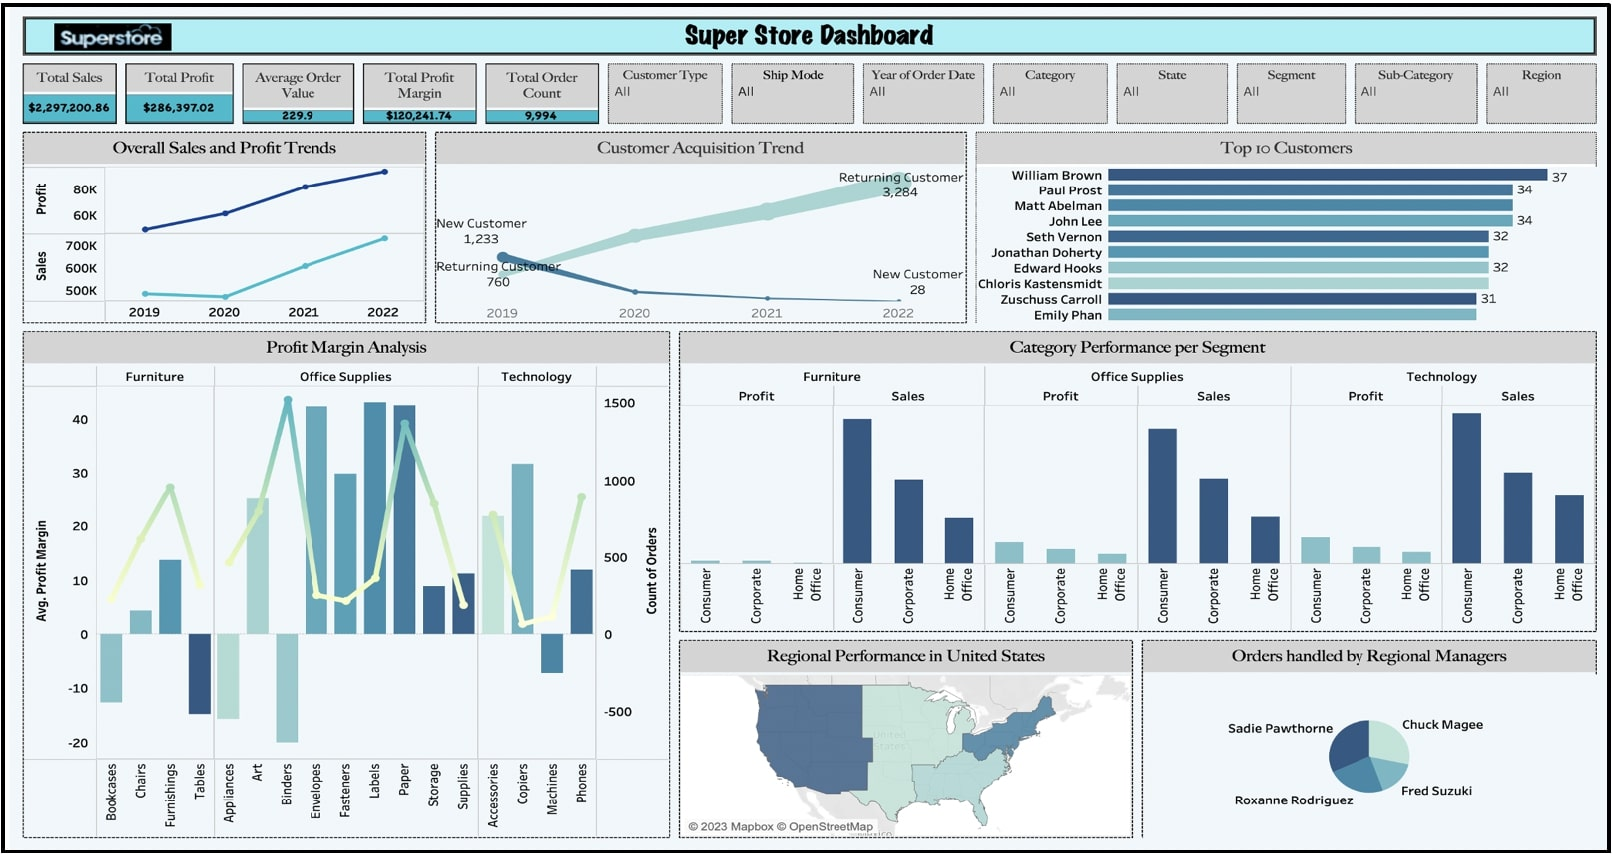

What the dashboard file says about the page in this screenshot:
{"tool":"tableau","page":{"name":"Super Store","canvas":[1466,868],"ordinal":0},"visuals":[{"type":"title","box":[8,8,1450,48]},{"type":"image","param":"Image/Screen Shot 2023-12-08 at 3.56.37 PM.png","box":[18,19,153,28]},{"type":"worksheet","title":"Total Sales","mark":"Automatic","box":[8,56,94,70]},{"type":"worksheet","title":"Total Profit","mark":"Automatic","box":[102,56,107,70]},{"type":"worksheet","title":"Average Order Value","mark":"Automatic","box":[209,56,111,70]},{"type":"worksheet","title":"Total Profit Margin","mark":"Automatic","box":[320,56,112,70]},{"type":"worksheet","title":"Total Number of Orders","mark":"Automatic","box":[432,56,112,70]},{"type":"filter","title":"Customer Acquisition Trend","param":"[Sample - Superstore].[none:Calculation_1703979171021570055:nk]","box":[544,56,113,70]},{"type":"filter","title":"Profit Margin Analysis","param":"[Sample - Superstore].[none:Ship Mode:nk]","box":[657,56,121,70]},{"type":"filter","title":"Overall Sales and Profit Trends","param":"[Sample - Superstore].[yr:Order Date:ok]","box":[778,56,119,70]},{"type":"filter","title":"Category and Sub-Category Performance","param":"[Sample - Superstore].[none:Category:nk]","box":[897,56,113,70]},{"type":"filter","title":"Top 10 Customers","param":"[Sample - Superstore].[none:State:nk]","box":[1010,56,110,70]},{"type":"filter","title":"Category and Sub-Category Performance","param":"[Sample - Superstore].[none:Segment:nk]","box":[1120,56,108,70]},{"type":"filter","title":"Category and Sub-Category Performance","param":"[Sample - Superstore].[none:Sub-Category:nk]","box":[1228,56,121,70]},{"type":"filter","title":"Regional Performance in United States","param":"[Sample - Superstore].[none:Region:nk]","box":[1349,56,109,70]},{"type":"worksheet","title":"Overall Sales and Profit Trends","mark":"Automatic","rows":["Profit","Sales"],"cols":["Order Date"],"box":[8,126,378.3,205]},{"type":"worksheet","title":"Customer Acquisition Trend","mark":"Automatic","rows":["Orders_ECFCA1FB690A41FE803BC071773BA862"],"cols":["Order Date"],"box":[386.3,126,494.2,205]},{"type":"worksheet","title":"Top 10 Customers","mark":"Automatic","rows":["Customer Name"],"cols":["Orders_ECFCA1FB690A41FE803BC071773BA862"],"box":[880.5,126,577.5,205]},{"type":"worksheet","title":"Profit Margin Analysis","mark":"Automatic","rows":["Calculation_1703979170958467072","Orders_ECFCA1FB690A41FE803BC071773BA862"],"cols":["Category","Sub-Category"],"box":[8,331,600.7,529]},{"type":"worksheet","title":"Category and Sub-Category Performance","mark":"Automatic","cols":["Category","Segment"],"box":[608.7,331,849.3,316.9]},{"type":"worksheet","title":"Regional Performance in United States","mark":"Automatic","box":[608.7,647.9,424.5,212.1]},{"type":"worksheet","title":"Orders handled by Regional Managers","mark":"Pie","box":[1033.2,647.9,424.8,212.1]}]}

Visuals, with their boxes on the page's 1466x868 design canvas (x1, y1, x2, y2). These are canvas units, not pixel positions in the 1612x858 screenshot, which may show the page scaled, cropped or inside an application window:
title: [x1=8, y1=8, x2=1458, y2=56]
image: [x1=18, y1=19, x2=171, y2=47]
"Total Sales" worksheet: [x1=8, y1=56, x2=102, y2=126]
"Total Profit" worksheet: [x1=102, y1=56, x2=209, y2=126]
"Average Order Value" worksheet: [x1=209, y1=56, x2=320, y2=126]
"Total Profit Margin" worksheet: [x1=320, y1=56, x2=432, y2=126]
"Total Number of Orders" worksheet: [x1=432, y1=56, x2=544, y2=126]
"Customer Acquisition Trend" filter: [x1=544, y1=56, x2=657, y2=126]
"Profit Margin Analysis" filter: [x1=657, y1=56, x2=778, y2=126]
"Overall Sales and Profit Trends" filter: [x1=778, y1=56, x2=897, y2=126]
"Category and Sub-Category Performance" filter: [x1=897, y1=56, x2=1010, y2=126]
"Top 10 Customers" filter: [x1=1010, y1=56, x2=1120, y2=126]
"Category and Sub-Category Performance" filter: [x1=1120, y1=56, x2=1228, y2=126]
"Category and Sub-Category Performance" filter: [x1=1228, y1=56, x2=1349, y2=126]
"Regional Performance in United States" filter: [x1=1349, y1=56, x2=1458, y2=126]
"Overall Sales and Profit Trends" worksheet: [x1=8, y1=126, x2=386, y2=331]
"Customer Acquisition Trend" worksheet: [x1=386, y1=126, x2=880, y2=331]
"Top 10 Customers" worksheet: [x1=880, y1=126, x2=1458, y2=331]
"Profit Margin Analysis" worksheet: [x1=8, y1=331, x2=609, y2=860]
"Category and Sub-Category Performance" worksheet: [x1=609, y1=331, x2=1458, y2=648]
"Regional Performance in United States" worksheet: [x1=609, y1=648, x2=1033, y2=860]
"Orders handled by Regional Managers" worksheet (Pie marks): [x1=1033, y1=648, x2=1458, y2=860]
